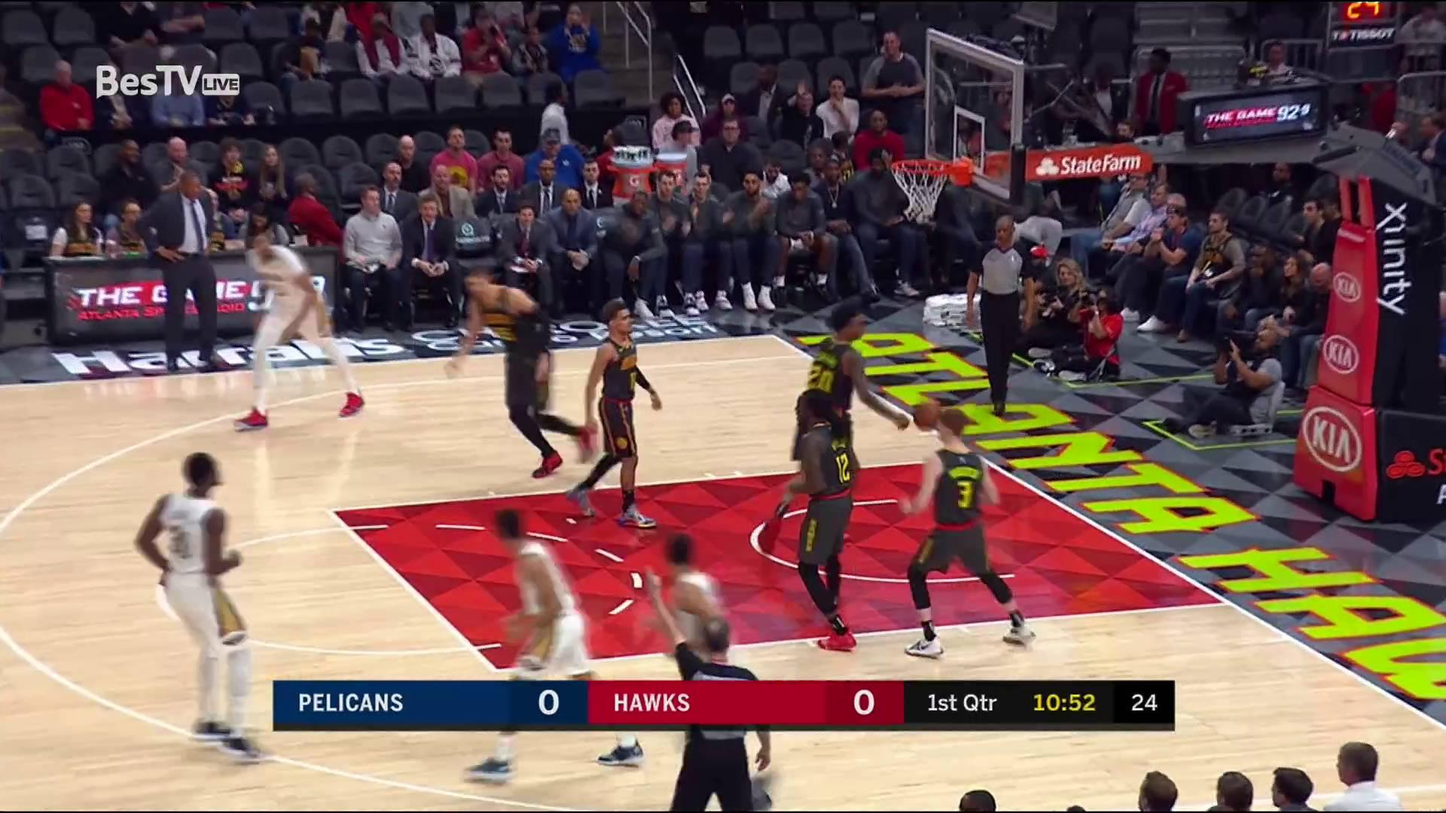basketball: (911, 396, 944, 432)
